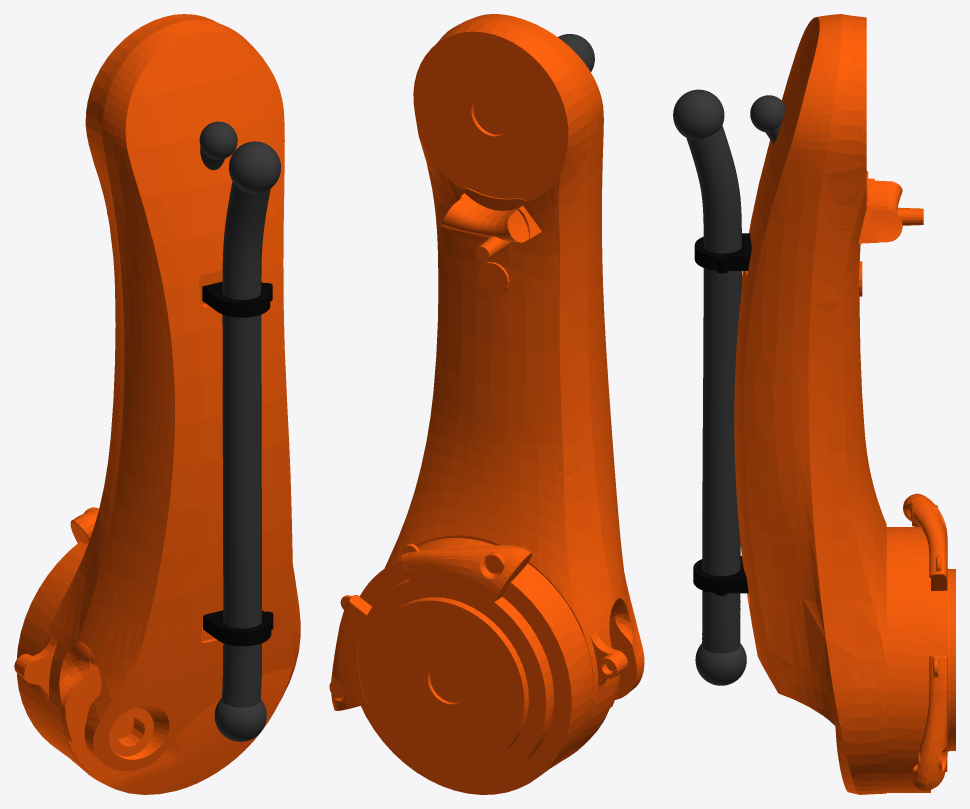
The picture shows the model from 3 angles, left to right: view 1: azimuth 30°, elevation 25°; view 2: azimuth 150°, elevation 25°; view 3: azimuth 270°, elevation 25°; orthographic projection. The views are drawn at different scales.
Parts seen in each view (by area): view 1: Fortec_A2.3ds_KR500_R2830-4_KR360_R2830-4__2__, exportLevel2.5.3ds_KR500_R2830-4_KR360_R2830-4__38__, exportLevel2.5.3ds_KR500_R2830-4_KR360_R2830-4__34__, exportLevel2.5.3ds_KR500_R2830-4_KR360_R2830-4__36__, exportLevel2.5.3ds_KR500_R2830-4_KR360_R2830-4__58__, exportLevel2.5.3ds_KR500_R2830-4_KR360_R2830-4__56__, Fortec_A2.3ds_KR500_R2830-4_KR360_R2830-4__7__; view 2: Fortec_A2.3ds_KR500_R2830-4_KR360_R2830-4__2__, exportLevel2.5.3ds_KR500_R2830-4_KR360_R2830-4__34__; view 3: Fortec_A2.3ds_KR500_R2830-4_KR360_R2830-4__2__, exportLevel2.5.3ds_KR500_R2830-4_KR360_R2830-4__38__, exportLevel2.5.3ds_KR500_R2830-4_KR360_R2830-4__34__, exportLevel2.5.3ds_KR500_R2830-4_KR360_R2830-4__36__, exportLevel2.5.3ds_KR500_R2830-4_KR360_R2830-4__56__, exportLevel2.5.3ds_KR500_R2830-4_KR360_R2830-4__58__, Fortec_A2.3ds_KR500_R2830-4_KR360_R2830-4__7__.
Part boxes in pixels (<box>): Fortec_A2.3ds_KR500_R2830-4_KR360_R2830-4__2__: <box>14,14,300,794</box>; exportLevel2.5.3ds_KR500_R2830-4_KR360_R2830-4__38__: <box>221,181,270,707</box>; exportLevel2.5.3ds_KR500_R2830-4_KR360_R2830-4__34__: <box>229,141,280,193</box>; exportLevel2.5.3ds_KR500_R2830-4_KR360_R2830-4__36__: <box>214,698,266,741</box>; exportLevel2.5.3ds_KR500_R2830-4_KR360_R2830-4__58__: <box>203,610,273,646</box>; exportLevel2.5.3ds_KR500_R2830-4_KR360_R2830-4__56__: <box>202,281,272,317</box>; Fortec_A2.3ds_KR500_R2830-4_KR360_R2830-4__7__: <box>199,121,237,159</box>; Fortec_A2.3ds_KR500_R2830-4_KR360_R2830-4__2__: <box>329,14,644,794</box>; exportLevel2.5.3ds_KR500_R2830-4_KR360_R2830-4__34__: <box>558,34,594,71</box>; Fortec_A2.3ds_KR500_R2830-4_KR360_R2830-4__2__: <box>734,14,955,794</box>; exportLevel2.5.3ds_KR500_R2830-4_KR360_R2830-4__38__: <box>686,125,741,653</box>; exportLevel2.5.3ds_KR500_R2830-4_KR360_R2830-4__34__: <box>673,89,724,139</box>; exportLevel2.5.3ds_KR500_R2830-4_KR360_R2830-4__36__: <box>695,643,746,685</box>; exportLevel2.5.3ds_KR500_R2830-4_KR360_R2830-4__56__: <box>694,233,751,273</box>; exportLevel2.5.3ds_KR500_R2830-4_KR360_R2830-4__58__: <box>693,556,748,595</box>; Fortec_A2.3ds_KR500_R2830-4_KR360_R2830-4__7__: <box>750,95,785,132</box>.
Bounding box in the file's own units: 0.6728 × 0.6054 × 1.79.
